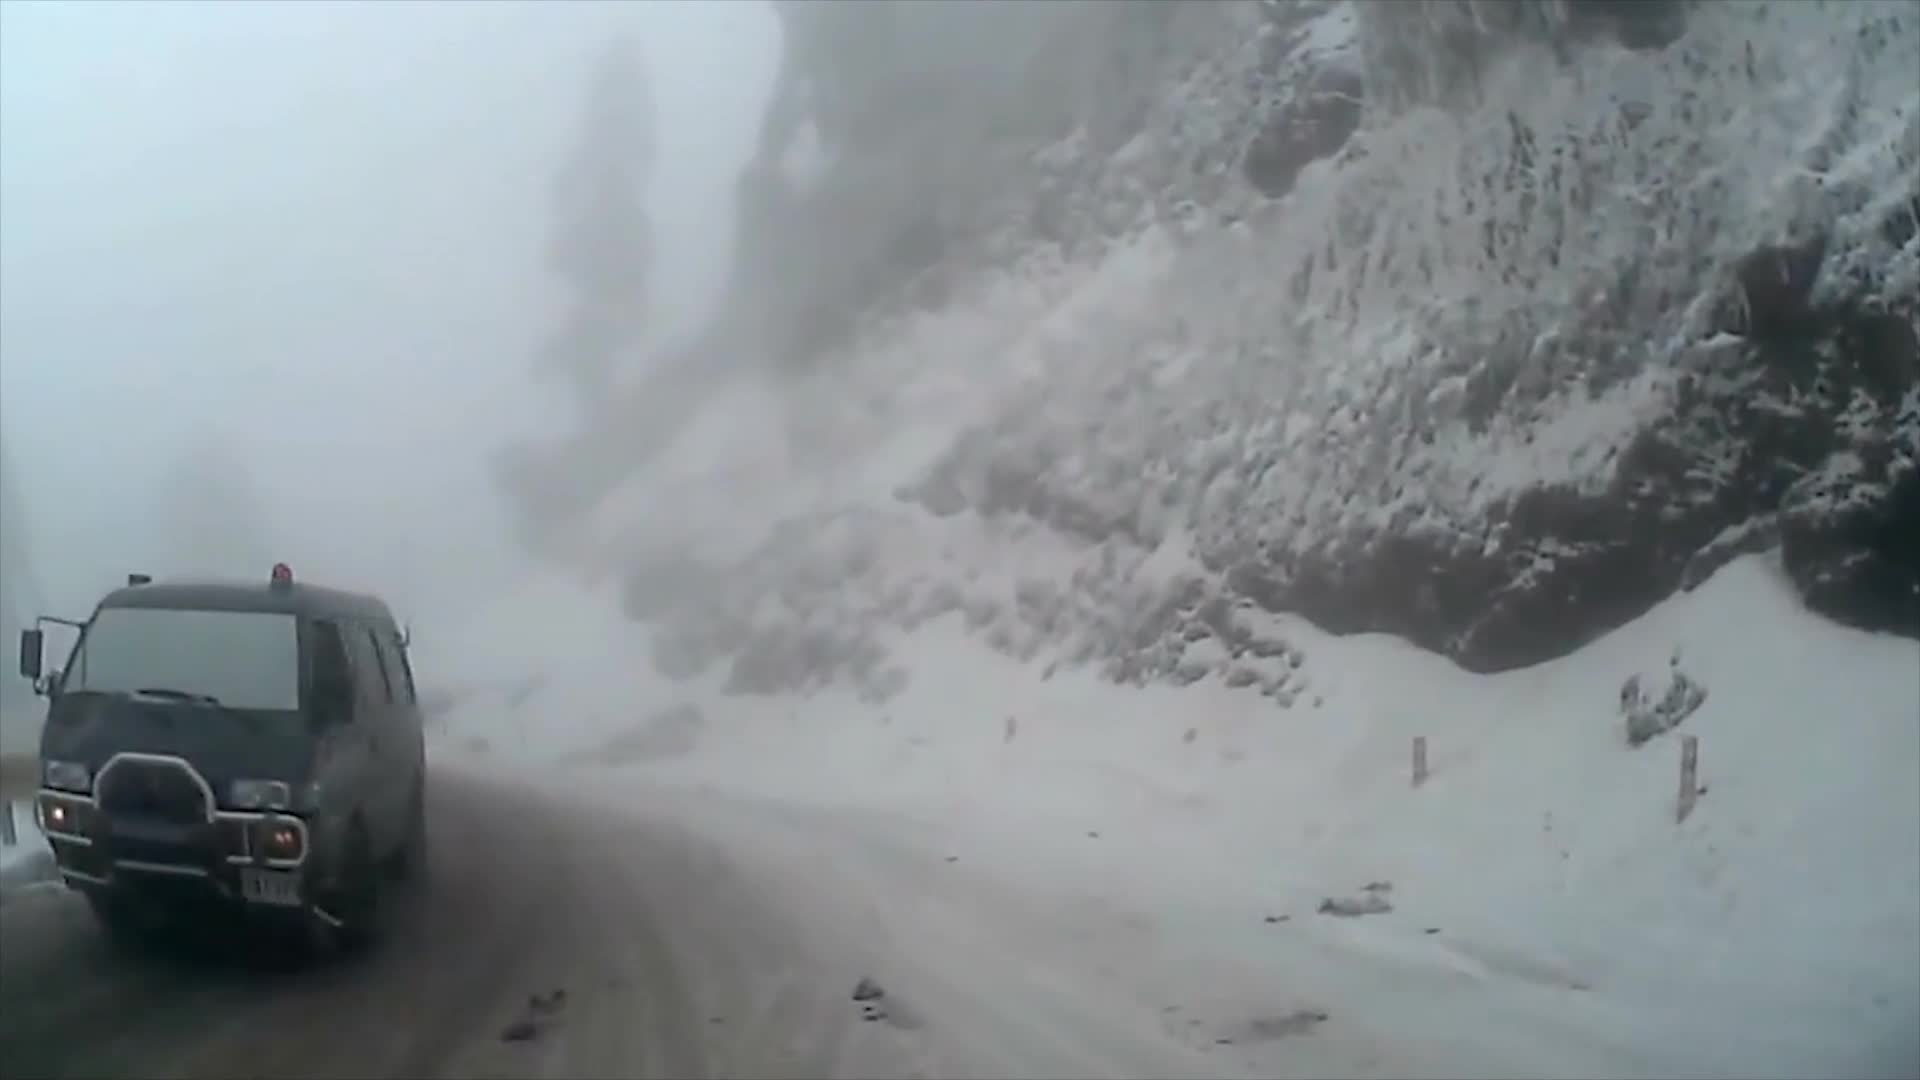vehicle: (22, 560, 429, 963)
